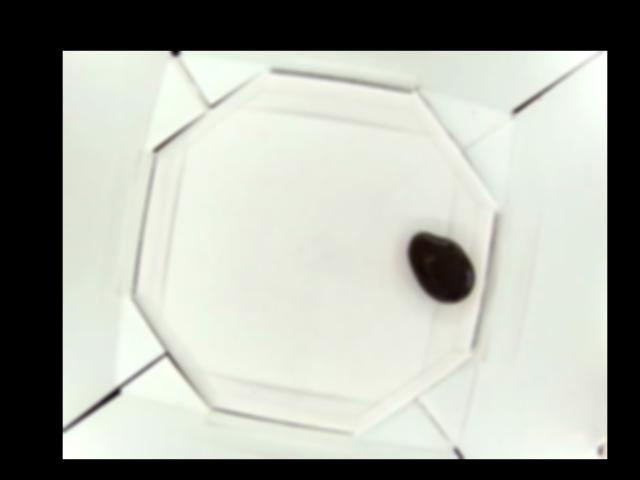Pebble: (408, 231, 472, 306)
